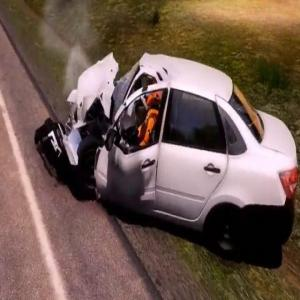fatal: (32, 46, 299, 262)
